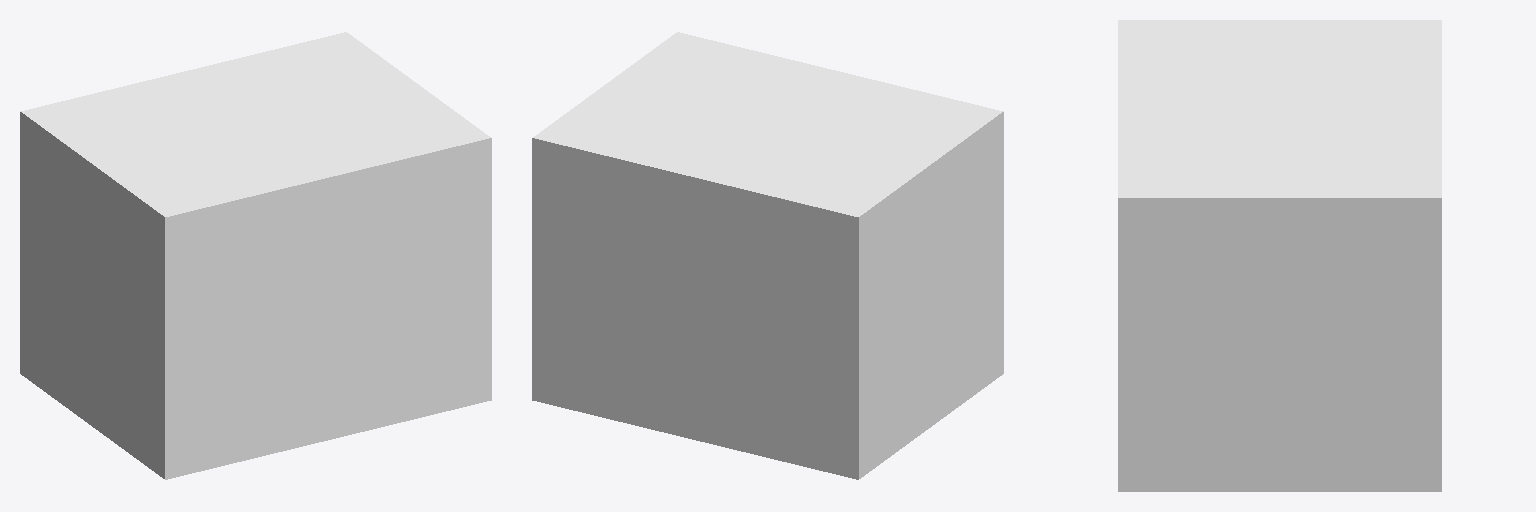
URDF robot description (bigbox):
<robot name="bigbox">
  <link name="base_link">
    <inertial>
      <origin xyz="0.0 0.0 0.6" rpy="0 0 0" />
      <mass value="0.6"/>
      <inertia ixx="0.001" ixy="0.0" ixz="0.0"
         iyy="0.001" iyz="0.0"
         izz="0.001" />
    </inertial>
    <visual>
      <origin xyz="0 0 0.6" rpy="0 0 0" />
      <geometry>
        <box size="1.3 1 1"/>
      </geometry>
      <material name="white">
        <color rgba="1 1 1 1"/>
      </material>
    </visual>
    <collision>
      <origin xyz="0 0 0.6" rpy="0 0 0" />
      <geometry>
        <box size="1.3 1 1"/>
      </geometry>
    </collision>
  </link>
</robot>

--- What the picture shows (computed from the rendered views, not written in the file) ---
The picture shows the robot from 3 angles, left to right: view 1: azimuth 30°, elevation 25°; view 2: azimuth 150°, elevation 25°; view 3: azimuth 270°, elevation 25°; orthographic projection.
Robot: bigbox — 1 links, 0 joints (none); root link base_link; default pose: all joints at 0.
Links seen in each view (by area): view 1: base_link; view 2: base_link; view 3: base_link.
Link boxes in pixels (x1,y1,x2,y2): base_link: [20, 32, 491, 479]; base_link: [532, 32, 1003, 479]; base_link: [1118, 20, 1441, 491].
Size in the robot's own frame: 1.3 by 1 by 1 metres.
Geometry: primitives only (box / cylinder / sphere), no mesh files.